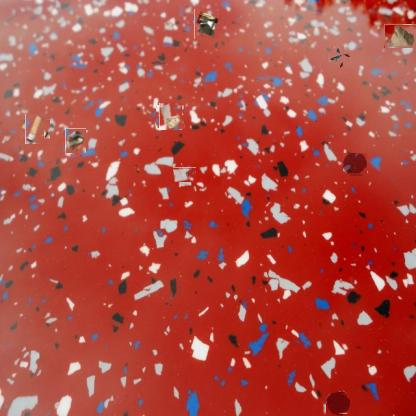dirty: (384, 24, 416, 48), (193, 11, 220, 38), (158, 104, 183, 129), (23, 117, 47, 142), (64, 129, 87, 152), (175, 165, 194, 185), (331, 49, 347, 65)
liquid: (326, 391, 350, 415), (343, 154, 367, 176)
